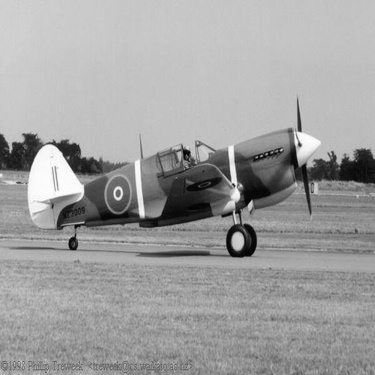airplane: (18, 84, 327, 262)
